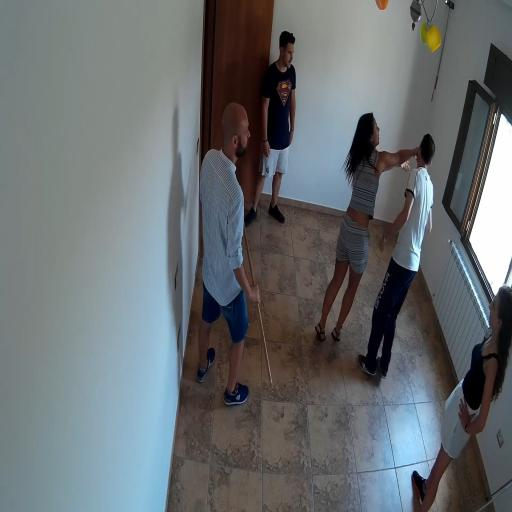violencia: (310, 98, 438, 390)
